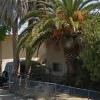Palm tree: (3, 2, 88, 77)
